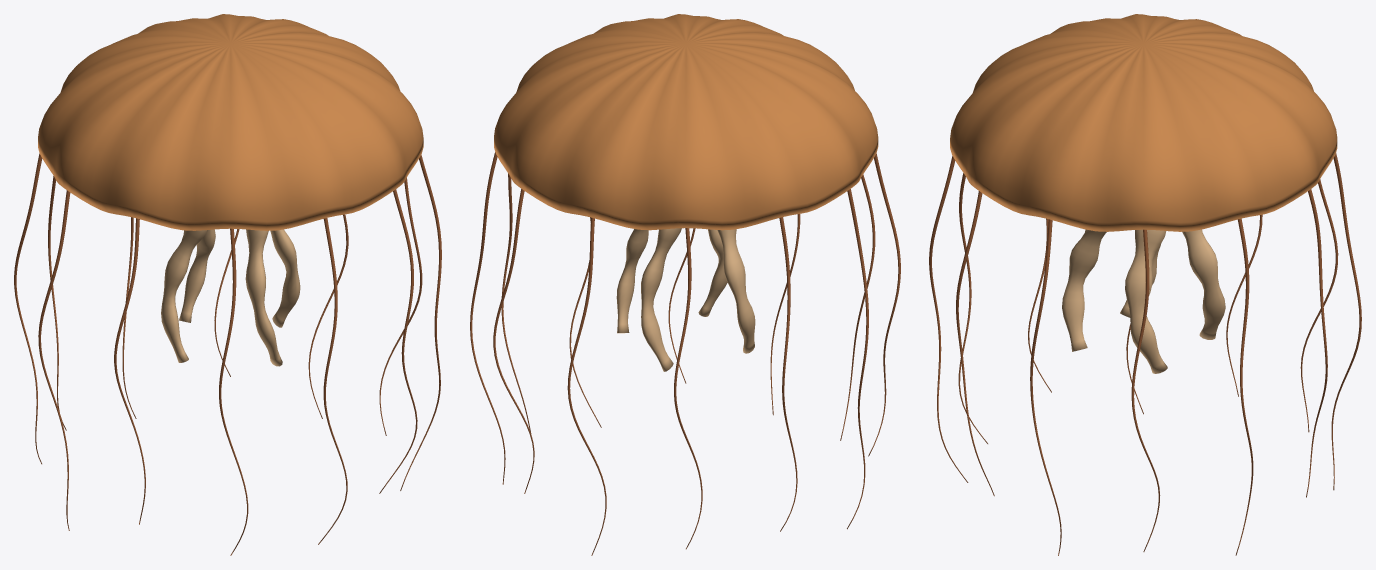
3 renders of one model, left to right at view 1: azimuth 30°, elevation 25°; view 2: azimuth 150°, elevation 25°; view 3: azimuth 270°, elevation 25°, orthographic.
Parts seen in each view (by area): view 1: Bell_closed_inner_outer, Oral_arm_3, Oral_arm_4, Oral_arm_1, Oral_arm_2, Marginal_tentacle_7, Marginal_tentacle_9, Marginal_tentacle_10, Marginal_tentacle_12, Marginal_tentacle_8, Marginal_tentacle_6, Marginal_tentacle_11 (+2 smaller); view 2: Bell_closed_inner_outer, Oral_arm_2, Oral_arm_3, Oral_arm_1, Marginal_tentacle_4, Marginal_tentacle_7, Marginal_tentacle_2, Marginal_tentacle_5, Marginal_tentacle_6, Marginal_tentacle_3, Oral_arm_4, Marginal_tentacle_8 (+2 smaller); view 3: Bell_closed_inner_outer, Oral_arm_1, Oral_arm_4, Oral_arm_2, Marginal_tentacle_12, Marginal_tentacle_2, Marginal_tentacle_1, Marginal_tentacle_4, Marginal_tentacle_10, Marginal_tentacle_3, Marginal_tentacle_11, Marginal_tentacle_9 (+1 smaller).
Boxes of the visible parts, x1,y1,x2,y2 form: Bell_closed_inner_outer: [38, 14, 423, 230]; Oral_arm_3: [161, 230, 207, 362]; Oral_arm_4: [245, 229, 282, 366]; Oral_arm_1: [270, 229, 300, 327]; Oral_arm_2: [179, 229, 215, 322]; Marginal_tentacle_7: [38, 190, 70, 530]; Marginal_tentacle_9: [219, 228, 248, 555]; Marginal_tentacle_10: [318, 218, 347, 544]; Marginal_tentacle_12: [400, 155, 441, 490]; Marginal_tentacle_8: [114, 218, 145, 524]; Marginal_tentacle_6: [14, 153, 42, 464]; Marginal_tentacle_11: [379, 189, 417, 493]; Bell_closed_inner_outer: [494, 14, 878, 230]; Oral_arm_2: [641, 228, 681, 371]; Oral_arm_3: [717, 229, 755, 353]; Oral_arm_1: [616, 229, 648, 333]; Marginal_tentacle_4: [567, 217, 606, 555]; Marginal_tentacle_7: [847, 189, 868, 529]; Marginal_tentacle_2: [470, 152, 505, 484]; Marginal_tentacle_5: [674, 228, 702, 549]; Marginal_tentacle_6: [779, 217, 797, 531]; Marginal_tentacle_3: [493, 189, 534, 493]; Oral_arm_4: [698, 229, 727, 316]; Marginal_tentacle_8: [868, 153, 900, 456]; Bell_closed_inner_outer: [950, 14, 1337, 231]; Oral_arm_1: [1125, 229, 1167, 373]; Oral_arm_4: [1062, 229, 1106, 351]; Oral_arm_2: [1182, 229, 1225, 339]; Marginal_tentacle_12: [1030, 219, 1061, 555]; Marginal_tentacle_2: [1235, 218, 1253, 555]; Marginal_tentacle_1: [1131, 229, 1160, 551]; Marginal_tentacle_4: [1331, 153, 1361, 490]; Marginal_tentacle_10: [929, 156, 968, 482]; Marginal_tentacle_3: [1306, 189, 1327, 497]; Marginal_tentacle_11: [956, 191, 994, 496]; Marginal_tentacle_9: [958, 173, 987, 443].
Bounding box in the file's own units: 0.7586 × 0.8662 × 0.7559.
